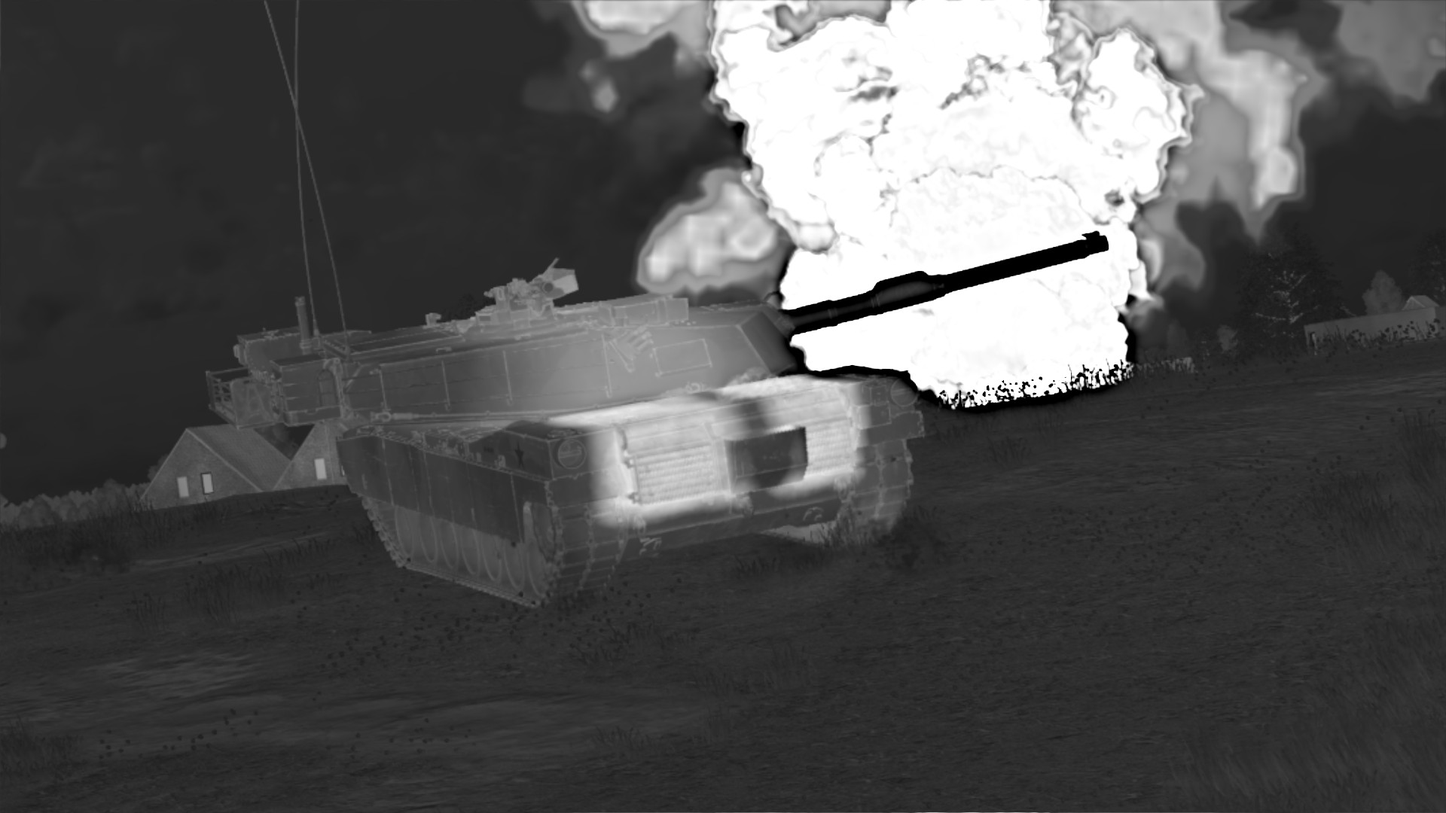abrams: (204, 230, 1109, 610)
